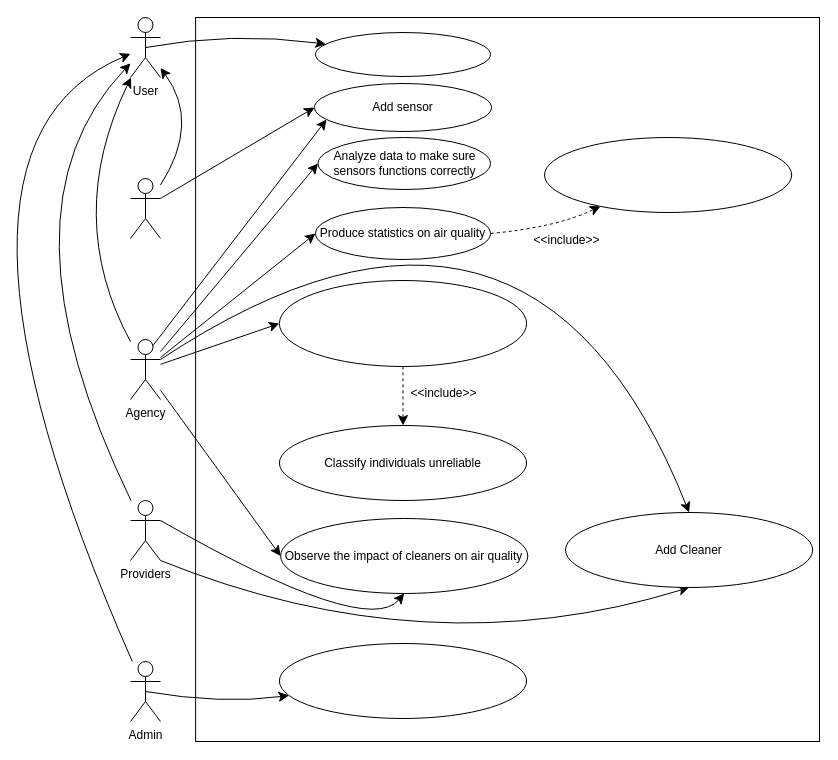
Image size: 838x760. Some labels were removed from this diagram. The box of each missing label's shape, as (x1, y1, x2, y2) in pixels:
Grant points for data sharing: (544, 136, 792, 212)
Log in: (314, 32, 490, 76)
Manage settings: (278, 642, 527, 718)
private individual: (130, 178, 160, 238)
Select score rank sensors at a specific : -time -place: (278, 280, 527, 366)
